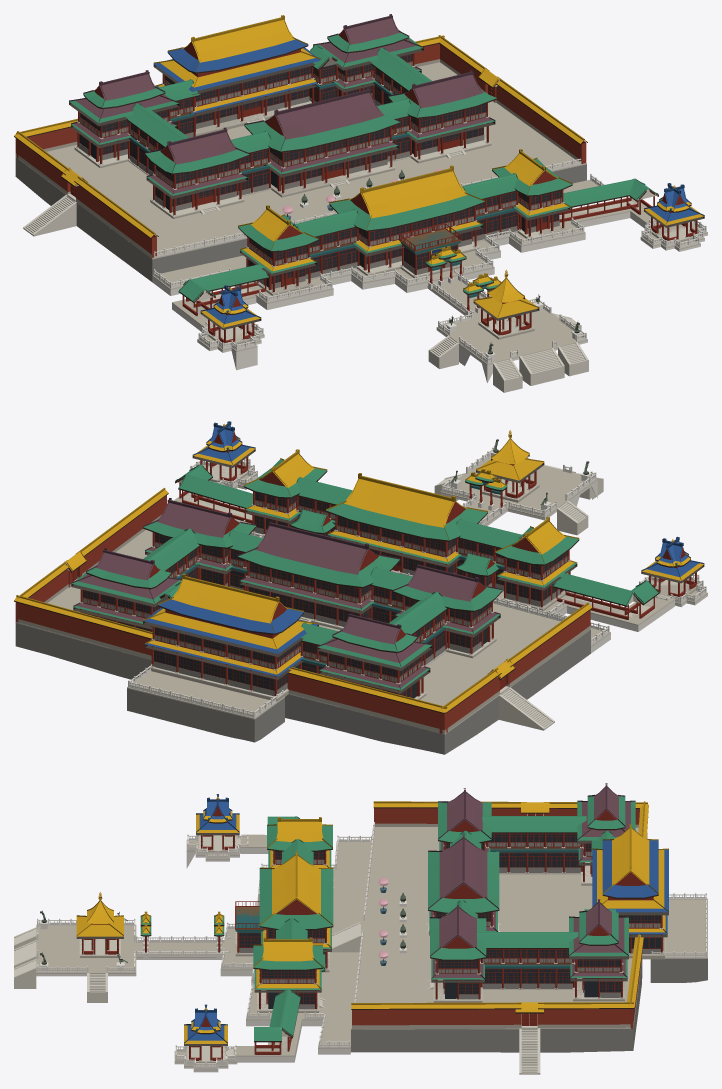
3 renders of one model, top to bottom at view 1: azimuth 30°, elevation 25°; view 2: azimuth 150°, elevation 25°; view 3: azimuth 270°, elevation 25°, orthographic. The views are drawn at different scales.
Parts seen in each view (by area): view 1: YM29 方壶胜境 Fanghu Shengjing; view 2: YM29 方壶胜境 Fanghu Shengjing; view 3: YM29 方壶胜境 Fanghu Shengjing.
Part boxes in pixels (box(x1,y1,x2,y2)): YM29 方壶胜境 Fanghu Shengjing: box(14, 14, 707, 392); YM29 方壶胜境 Fanghu Shengjing: box(14, 421, 707, 754); YM29 方壶胜境 Fanghu Shengjing: box(14, 783, 707, 1074).
Size of the model in its own units: 94.09 by 22.41 by 113.
